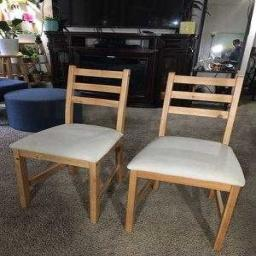Chair: (129, 73, 247, 248), (12, 67, 125, 221)
